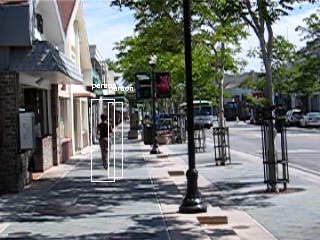person: (97, 114, 116, 171), (96, 114, 115, 171), (98, 114, 117, 171), (97, 113, 116, 170), (97, 115, 116, 172)
target_negative: (123, 65, 314, 191), (55, 152, 235, 193), (239, 112, 304, 202), (94, 2, 143, 92), (128, 110, 148, 181)
